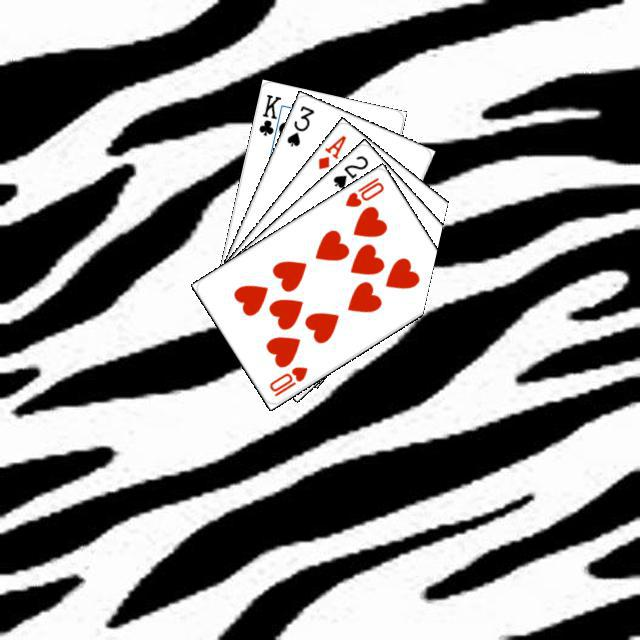10h: (340, 172, 386, 209), (264, 361, 309, 398)
2s: (328, 150, 370, 190)
3s: (282, 101, 316, 148)
Ad: (313, 130, 348, 171)
Kc: (254, 89, 285, 144)
